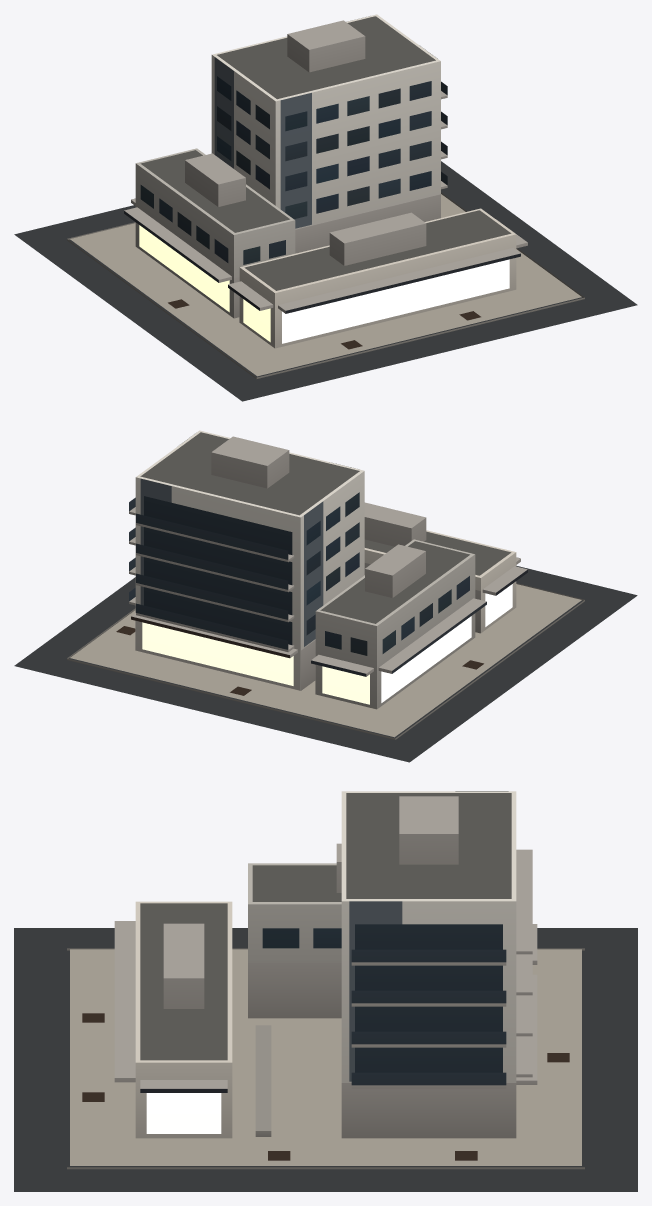
The model's file is modulo_H_lod1.glb.
3 views of the same model, one above another, from view 1: azimuth 30°, elevation 25°; view 2: azimuth 150°, elevation 25°; view 3: azimuth 270°, elevation 25° (orthographic). The views are drawn at different scales.
Parts seen in each view (by area): view 1: modulo_H_lod1; view 2: modulo_H_lod1; view 3: modulo_H_lod1.
Boxes of the visible parts, x1,y1,x2,y2 form: modulo_H_lod1: (14,14,637,401); modulo_H_lod1: (14,430,637,762); modulo_H_lod1: (14,791,637,1191).
Size of the model in its own units: 40 by 19.11 by 40.
